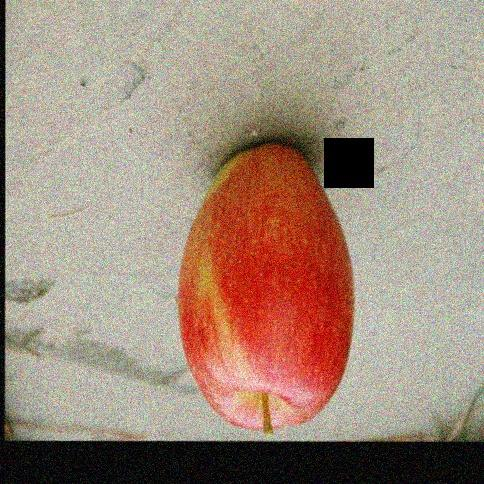red apple: (177, 144, 355, 434)
